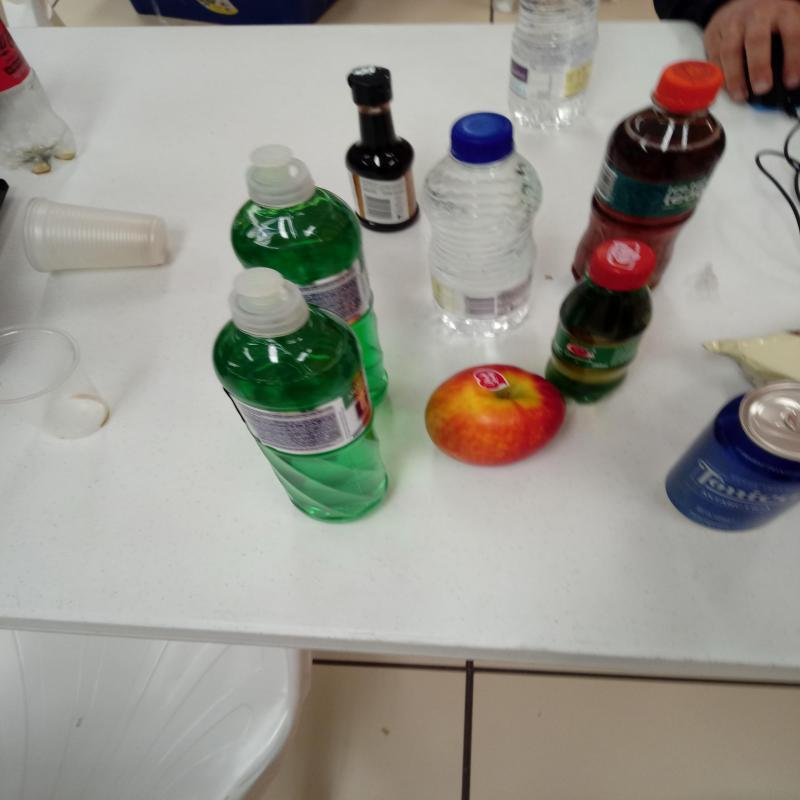Apple: (423, 365, 567, 471)
Cleaner: (211, 270, 386, 520), (231, 145, 388, 413)
EnglishSauce: (344, 68, 418, 236)
Guarana: (545, 238, 656, 401)
IceTea: (572, 61, 726, 292)
Tonic: (663, 381, 800, 534)
Water: (423, 111, 542, 329), (510, 0, 604, 136)
